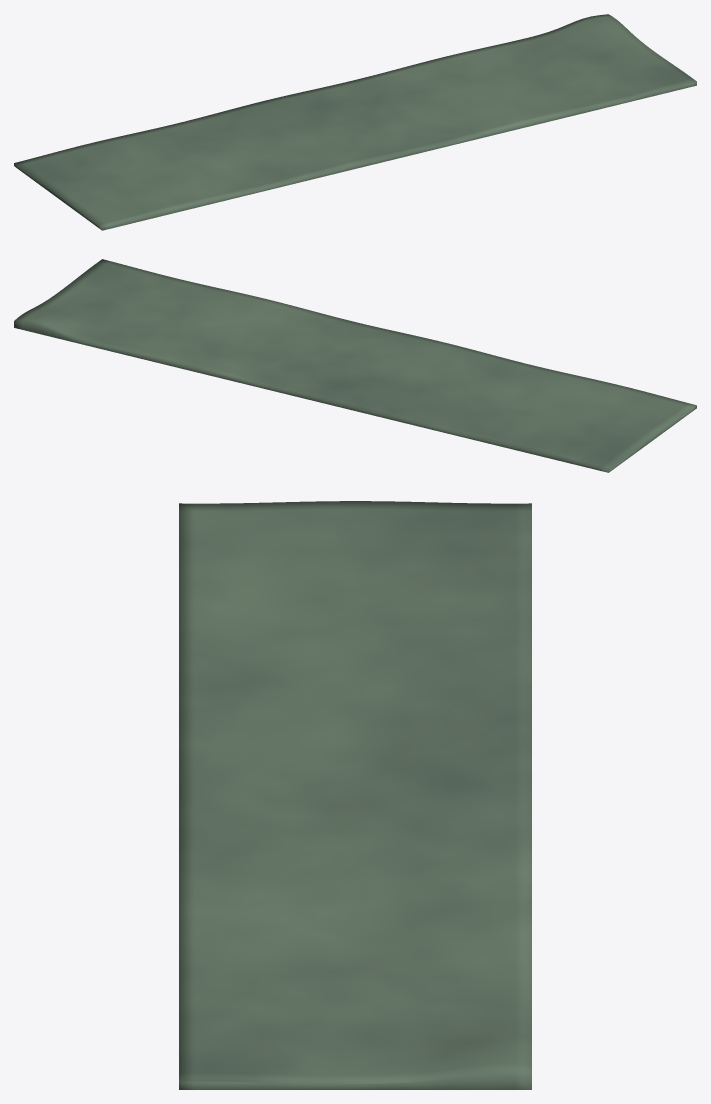
The model's file is PRP_Rug.fbx.
3 views of the same model, one above another, from view 1: azimuth 30°, elevation 25°; view 2: azimuth 150°, elevation 25°; view 3: azimuth 270°, elevation 25° (orthographic). The views are drawn at different scales.
Visible parts, largest first — view 1: Rug_Body; view 2: Rug_Body; view 3: Rug_Body.
Boxes of the visible parts, x1=… form: Rug_Body: x1=14, y1=14, x2=696, y2=230; Rug_Body: x1=14, y1=259, x2=696, y2=472; Rug_Body: x1=179, y1=501, x2=531, y2=1089.
Size of the model in its own units: 350 by 5.54 by 90.
